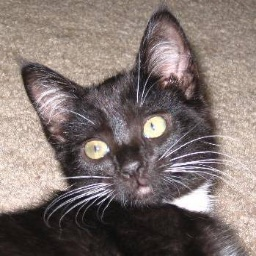cat: (1, 22, 246, 256)
